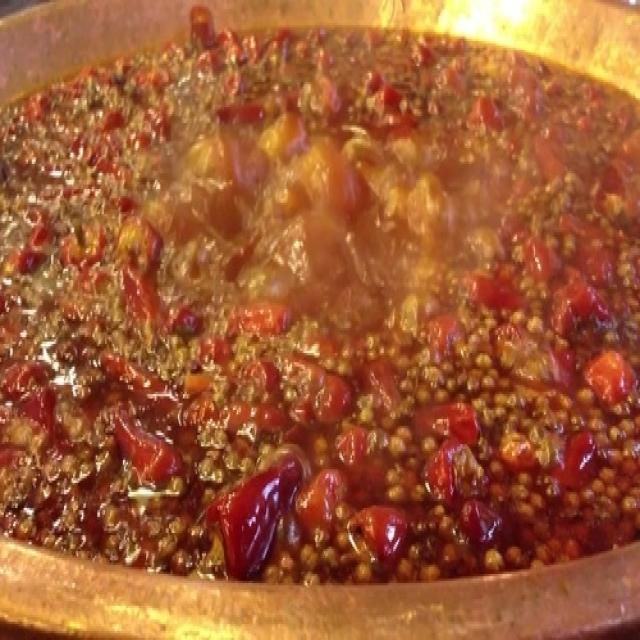汤锅炖物: (4, 7, 635, 617)
